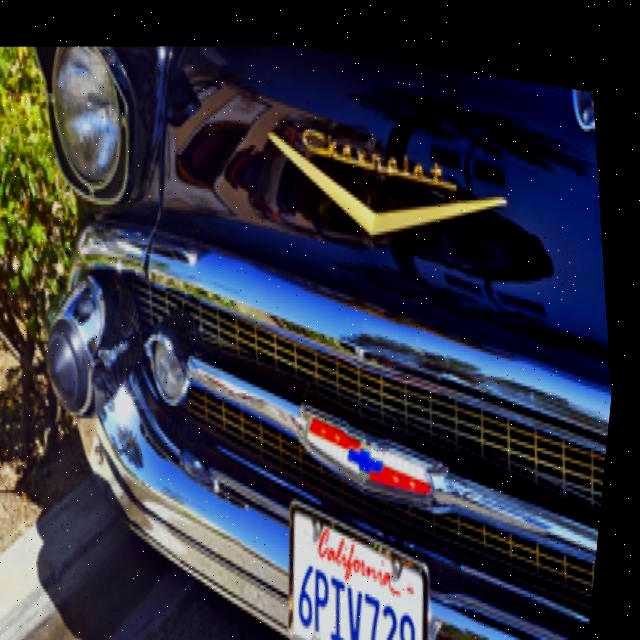license_plate: (283, 474, 452, 640)
